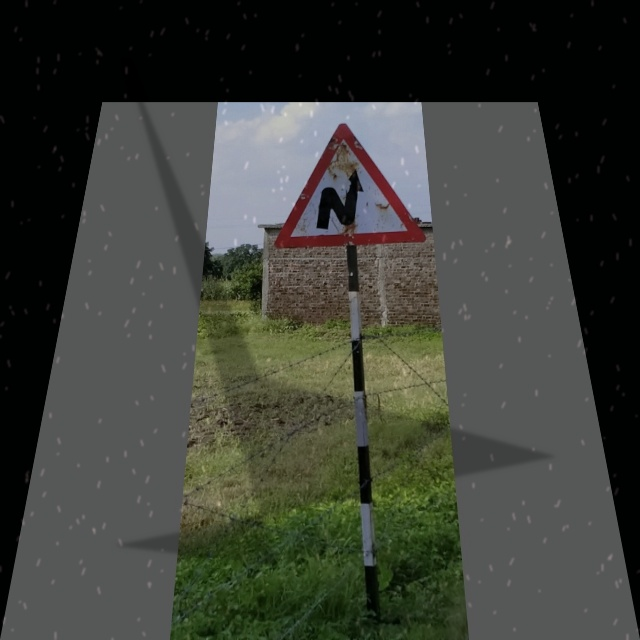Right_Reverse_Bend: (276, 123, 427, 245)
